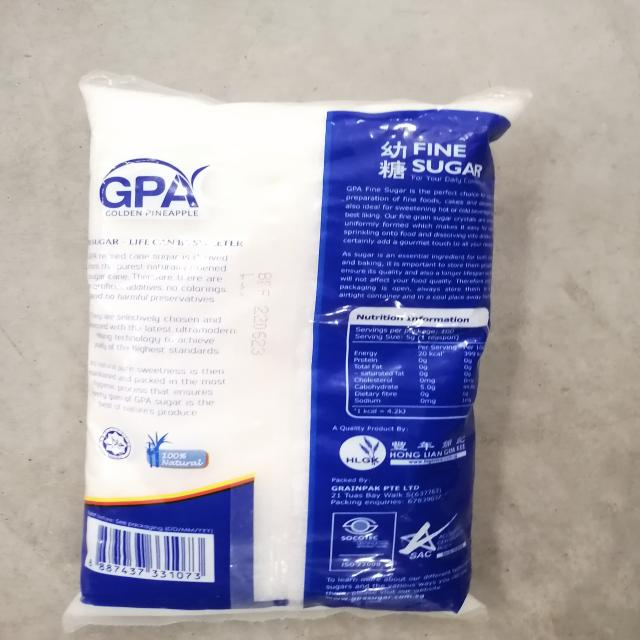object_name: (89, 85, 470, 611)
